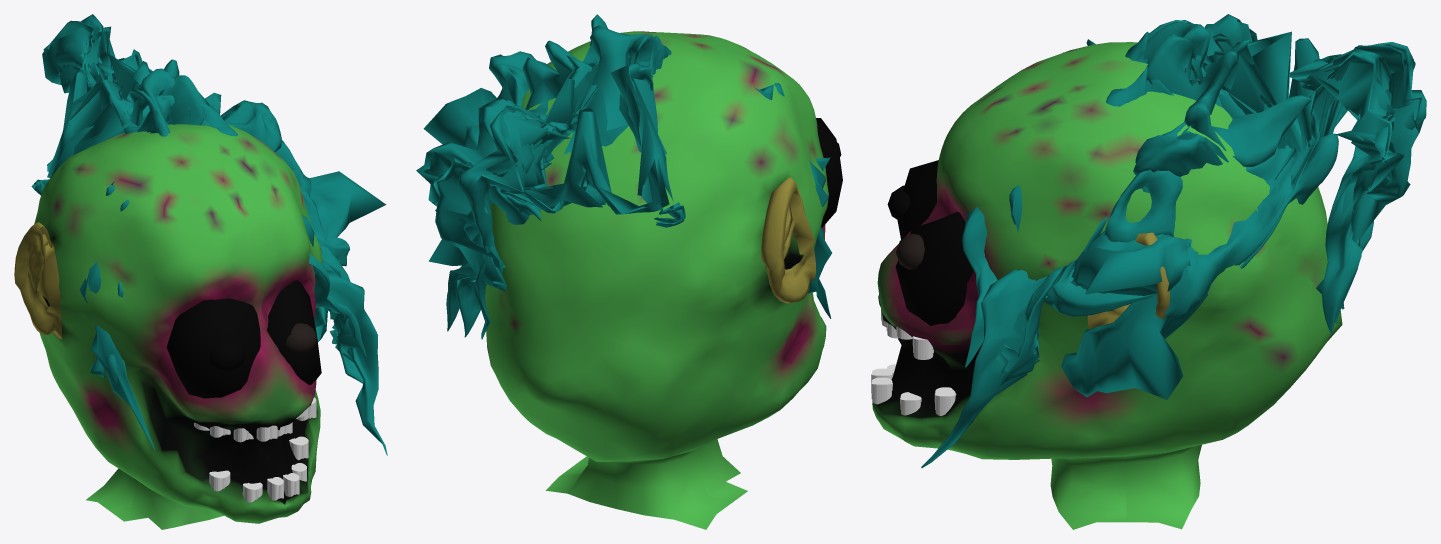
File: haired_female_head.glb
3 renders of one model, left to right at view 1: azimuth 30°, elevation 25°; view 2: azimuth 150°, elevation 25°; view 3: azimuth 270°, elevation 25°, orthographic. The views are drawn at different scales.
Parts seen in each view (by area): view 1: Base, Hair, EyeRightOuter, EarRight, EyeLeftOuter, EyeRightInner, EyeLeftInner; view 2: Base, Hair, EarRight, EyeRightOuter; view 3: Base, Hair, EyeLeftOuter, EyeRightOuter, EarLeft, EyeLeftInner.
Boxes of the visible parts, x1,y1,x2,y2 form: Base: (34, 124, 322, 529); Hair: (31, 14, 387, 455); EyeRightOuter: (166, 298, 260, 398); EarRight: (14, 222, 62, 339); EyeLeftOuter: (266, 280, 321, 385); EyeRightInner: (209, 341, 245, 371); EyeLeftInner: (286, 323, 317, 352); Base: (485, 31, 828, 529); Hair: (416, 14, 831, 339); EarRight: (761, 177, 815, 303); EyeRightOuter: (816, 118, 842, 227); Base: (872, 42, 1342, 529); Hair: (921, 14, 1426, 467); EyeLeftOuter: (895, 211, 973, 325); EyeRightOuter: (897, 160, 938, 239); EarLeft: (1087, 232, 1170, 328); EyeLeftInner: (895, 233, 924, 269).
Bounding box in the file's own units: 1.6 × 1.89 × 2.01.
